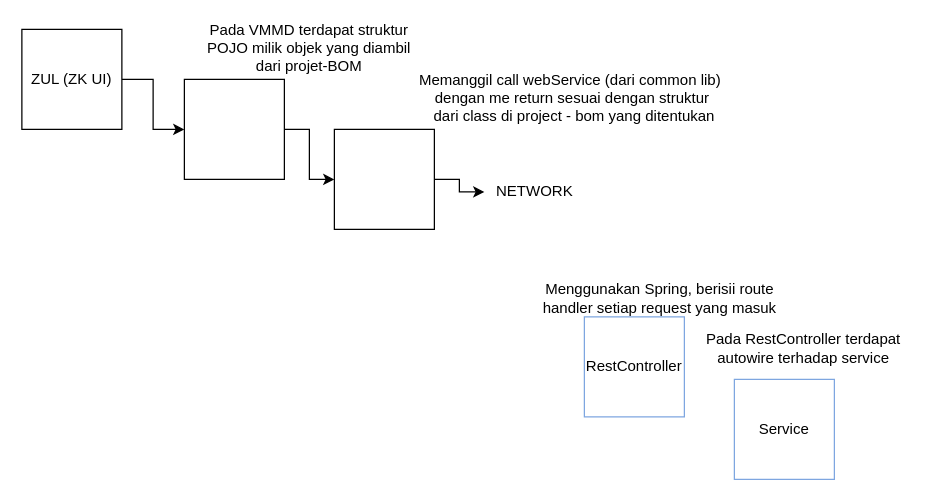
The diagram is 931 pixels wide and 501 high, and some of its shapes have lost their labels. The centre of each missing label's shape, as x and y in pixels:
Service(Web): the point at 383,178
ZK UI ViewModel (VMD): the point at 233,128
